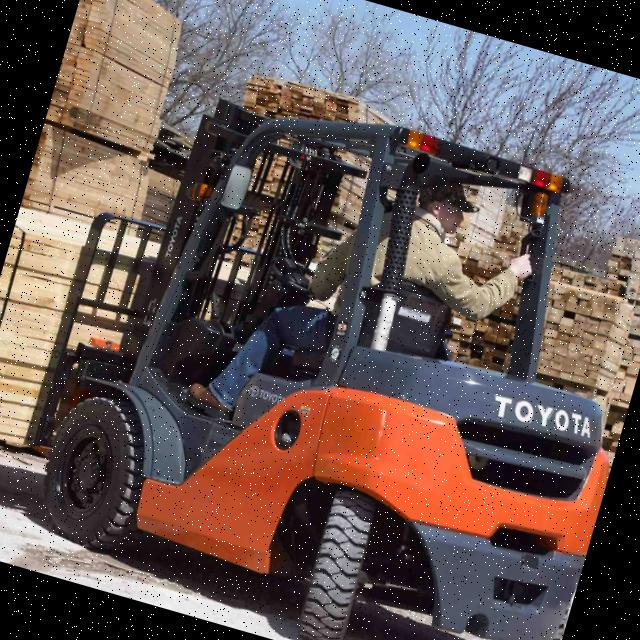Person: (181, 126, 548, 490)
